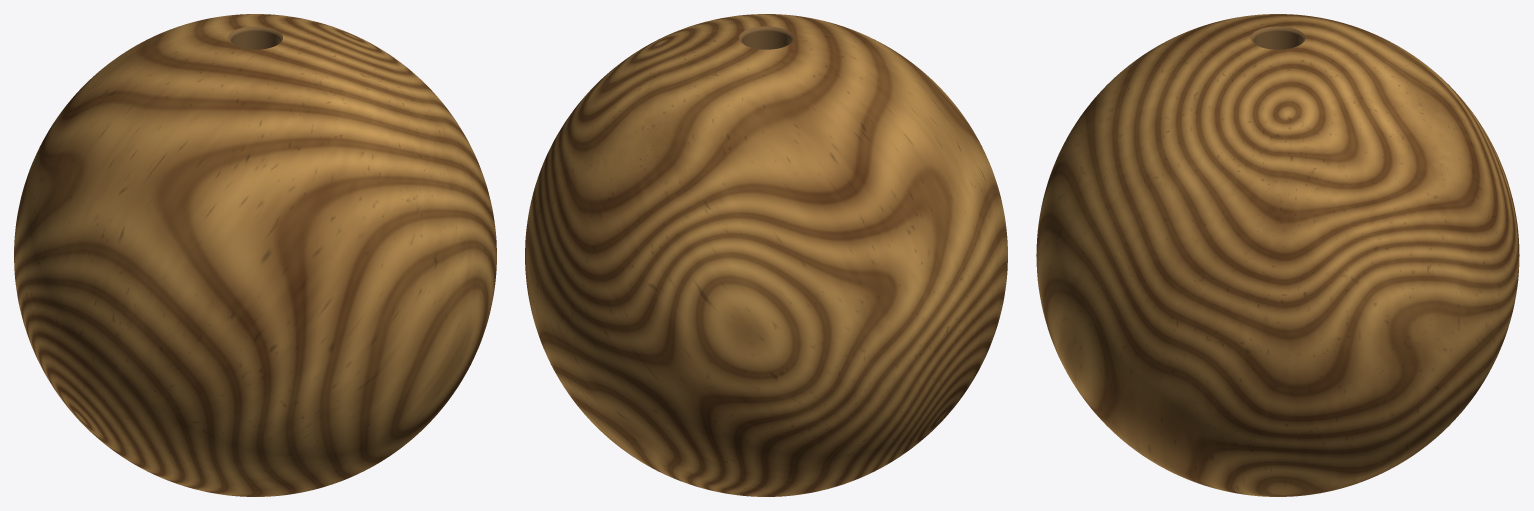
Rendered from wood-hainan-huanghuali-10mm.glb.
The picture shows the model from 3 angles, left to right: view 1: azimuth 30°, elevation 25°; view 2: azimuth 150°, elevation 25°; view 3: azimuth 270°, elevation 25°; orthographic projection.
Visible parts, largest first — view 1: hainan-huanghuali; view 2: hainan-huanghuali; view 3: hainan-huanghuali.
Part boxes in pixels (left/top/right/bottom): hainan-huanghuali: left=14, top=14, right=496, bottom=496; hainan-huanghuali: left=525, top=14, right=1007, bottom=496; hainan-huanghuali: left=1036, top=14, right=1519, bottom=496.
Size of the model in its own units: 0.01 by 0.00993 by 0.01.
Materials: 2 (1 with a texture image).
